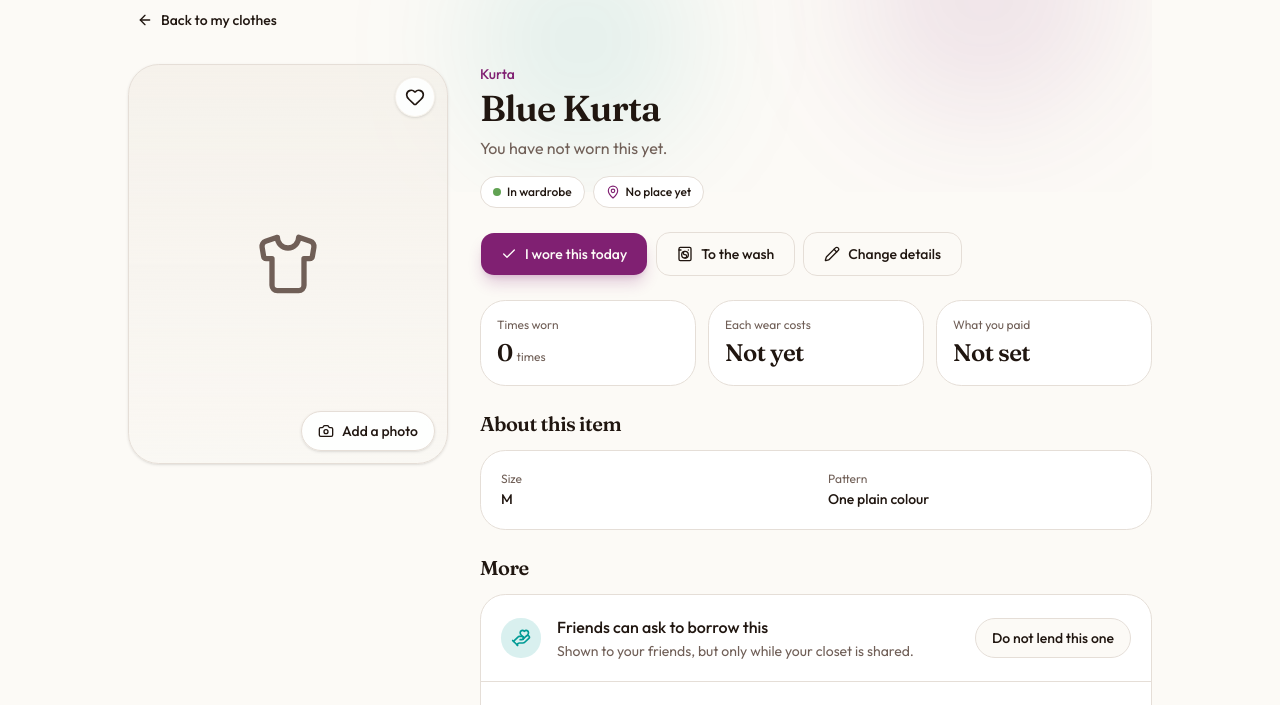
Test: ItemPage › offers to add a photo straight from the empty picture
Click the button "Add a photo" at (368, 431), box top-left (301, 411), bottom-right (435, 451)
(page scrolled)
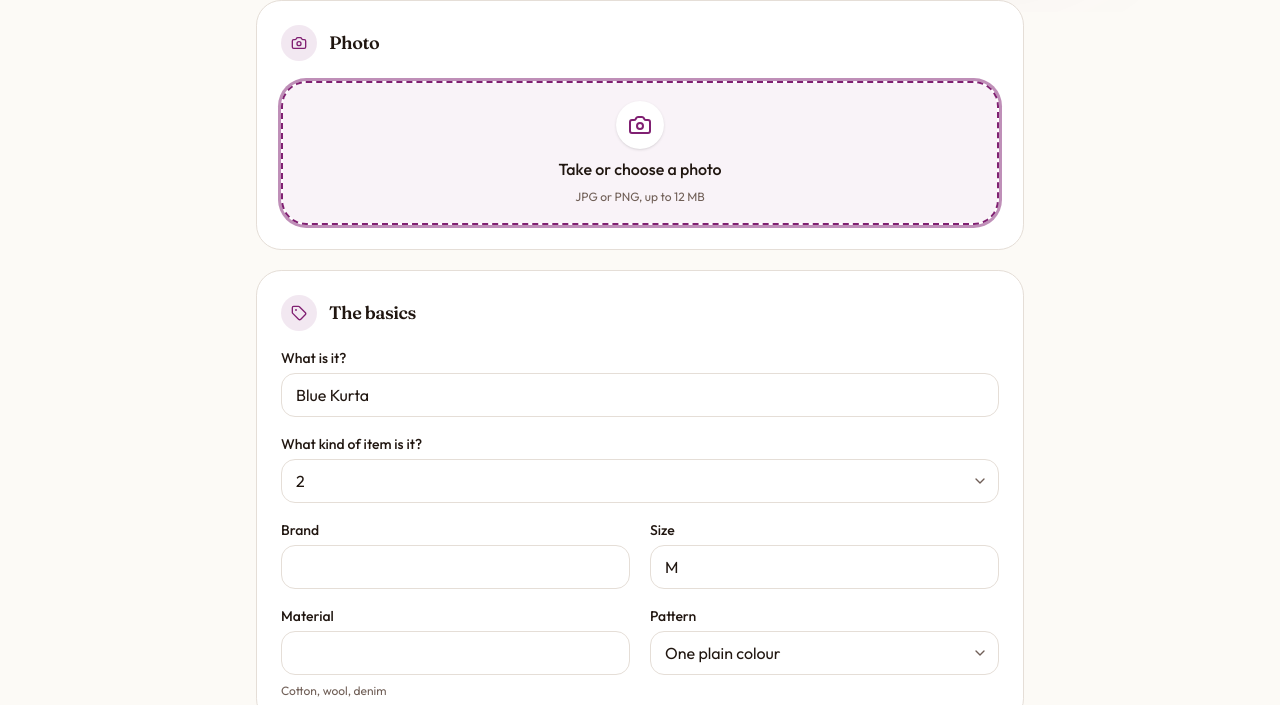
Expected: the button "Take or choose a photo JPG or PNG, up to 12 MB" is shown, top-left (281, 81), bottom-right (999, 225)
